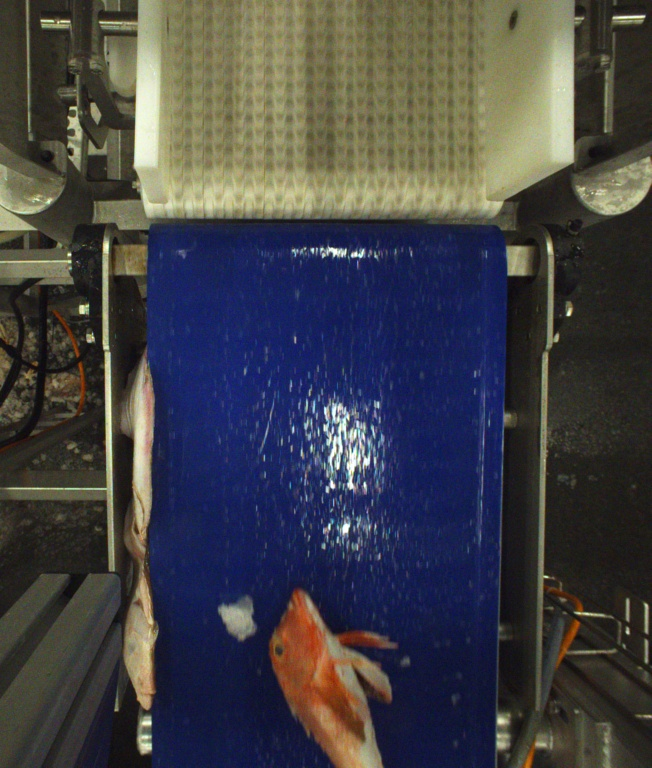GUU: (268, 584, 397, 768)
